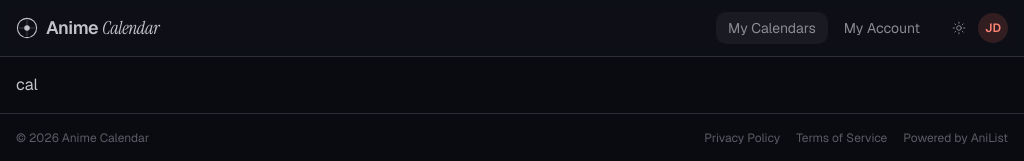
Scenario: App.vue topbar › opens dropdown menu with logout button when avatar clicked
Click the button with test id "topbar-avatar". click: (993, 28)
box: [978,13,1008,43]
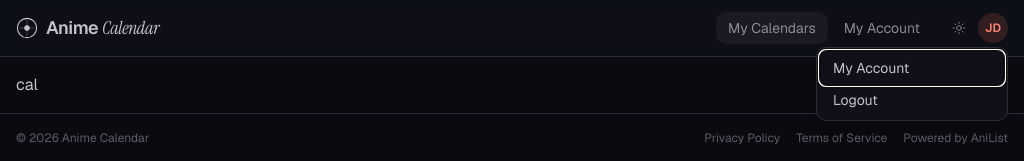
Result: the menu item with test id "topbar-logout" is shown at [821,84,1003,116]
